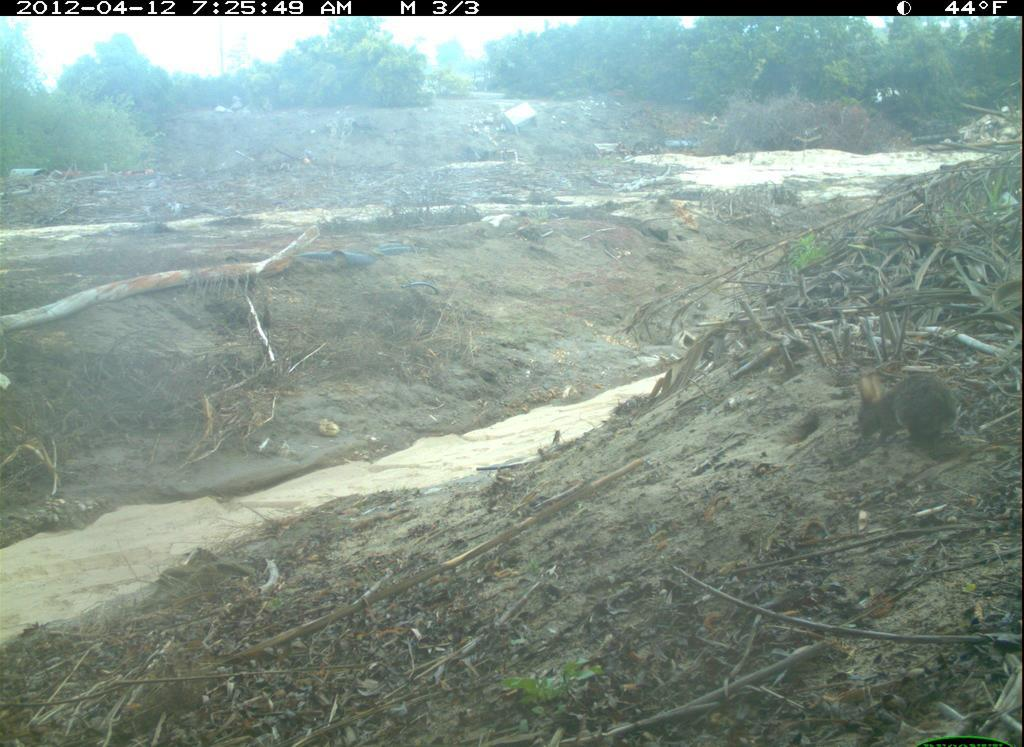rabbit: (846, 367, 967, 461)
